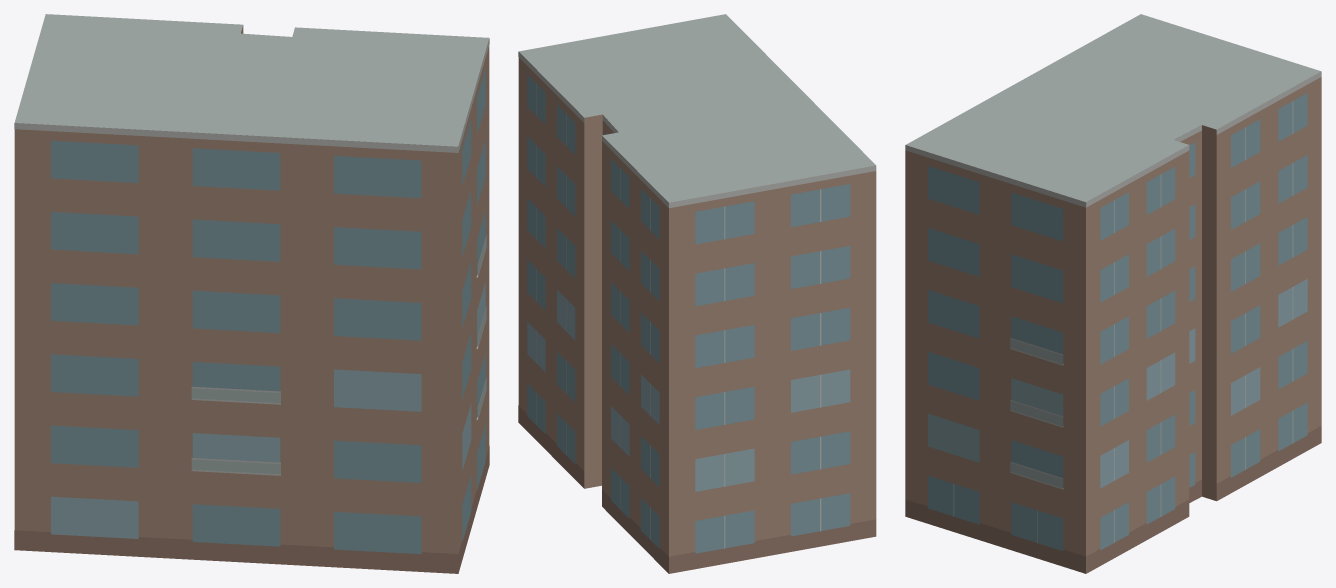
The model's file is survey-upis-32629412.glb.
3 renders of one model, left to right at view 1: azimuth 30°, elevation 25°; view 2: azimuth 150°, elevation 25°; view 3: azimuth 270°, elevation 25°, orthographic. The views are drawn at different scales.
Visible parts, largest first — view 1: survey-upis-32629412.tmp; view 2: survey-upis-32629412.tmp; view 3: survey-upis-32629412.tmp.
Boxes of the visible parts, bbox=[...] form: survey-upis-32629412.tmp: bbox=[14, 14, 489, 573]; survey-upis-32629412.tmp: bbox=[518, 14, 876, 573]; survey-upis-32629412.tmp: bbox=[905, 14, 1321, 573].
Bounding box in the file's own units: 18.15 × 16.7 × 16.96.
